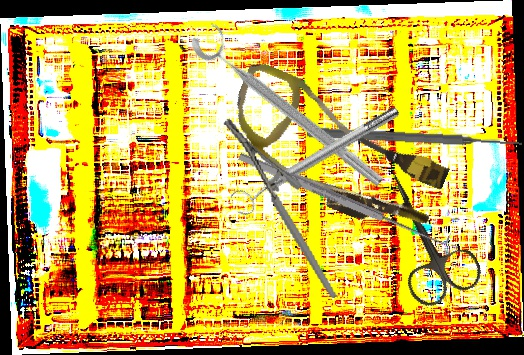Cannula: (211, 59, 461, 244)
Fixation Ring: (186, 17, 396, 193), (227, 98, 406, 220)
Hook Surgical: (236, 142, 453, 252)
Iris Scissors: (361, 155, 487, 313)
Needle Holder: (221, 104, 338, 313)
Pusher: (306, 125, 523, 151)
